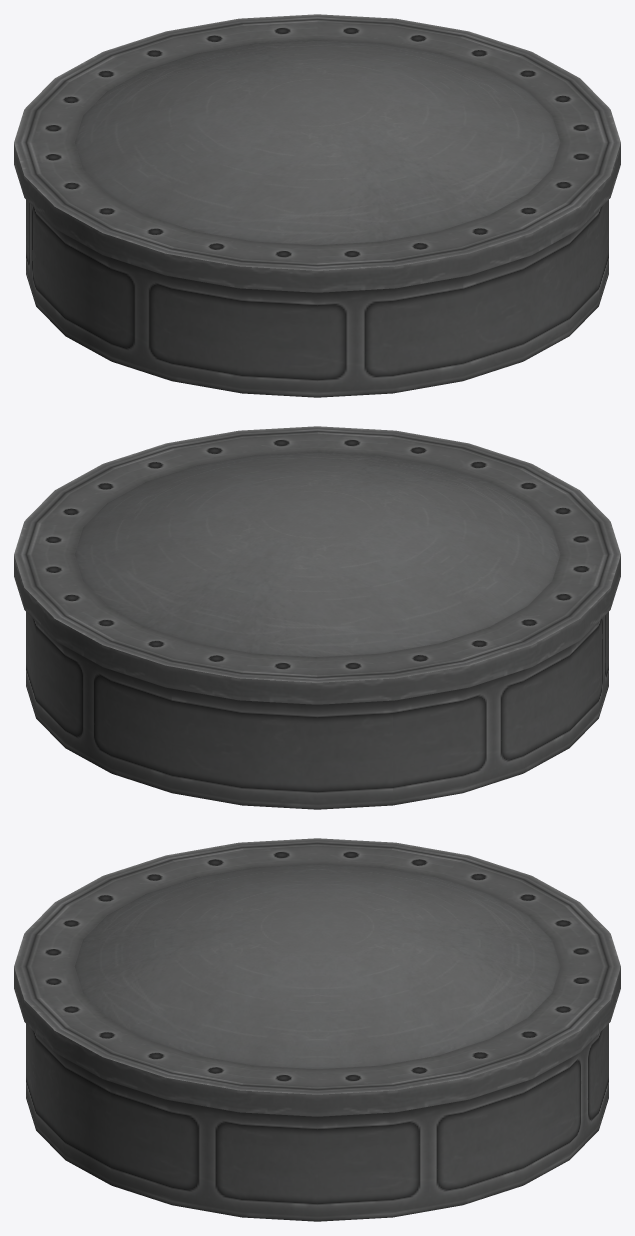
File: circinus_staging_plate_s1p2_1.obj
The picture shows the model from 3 angles, top to bottom: view 1: azimuth 30°, elevation 25°; view 2: azimuth 150°, elevation 25°; view 3: azimuth 270°, elevation 25°; orthographic projection.
Visible parts, largest first — view 1: circinus_staging_plate_s1p2_1; view 2: circinus_staging_plate_s1p2_1; view 3: circinus_staging_plate_s1p2_1.
Part boxes in pixels (<box>): circinus_staging_plate_s1p2_1: <box>14,14,620,397</box>; circinus_staging_plate_s1p2_1: <box>14,426,620,809</box>; circinus_staging_plate_s1p2_1: <box>14,838,620,1221</box>.
Size of the model in its own units: 1.56 by 0.5 by 1.56.
